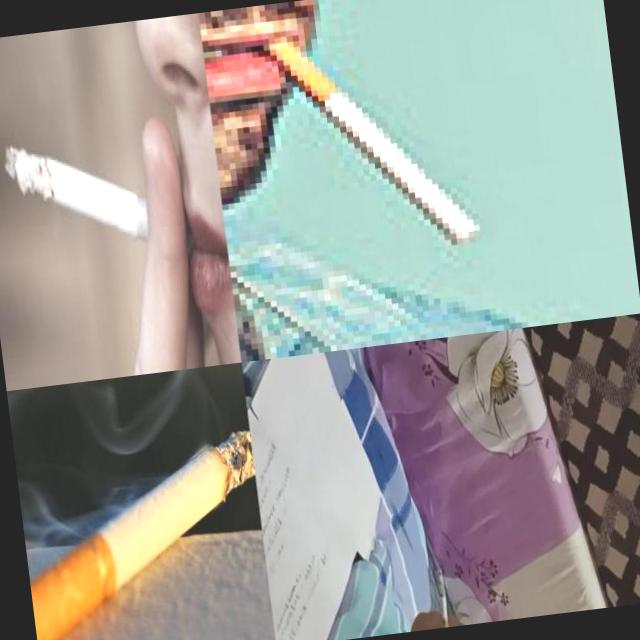smoke: (14, 427, 273, 640), (262, 9, 480, 260), (0, 122, 195, 276), (435, 566, 449, 626)
